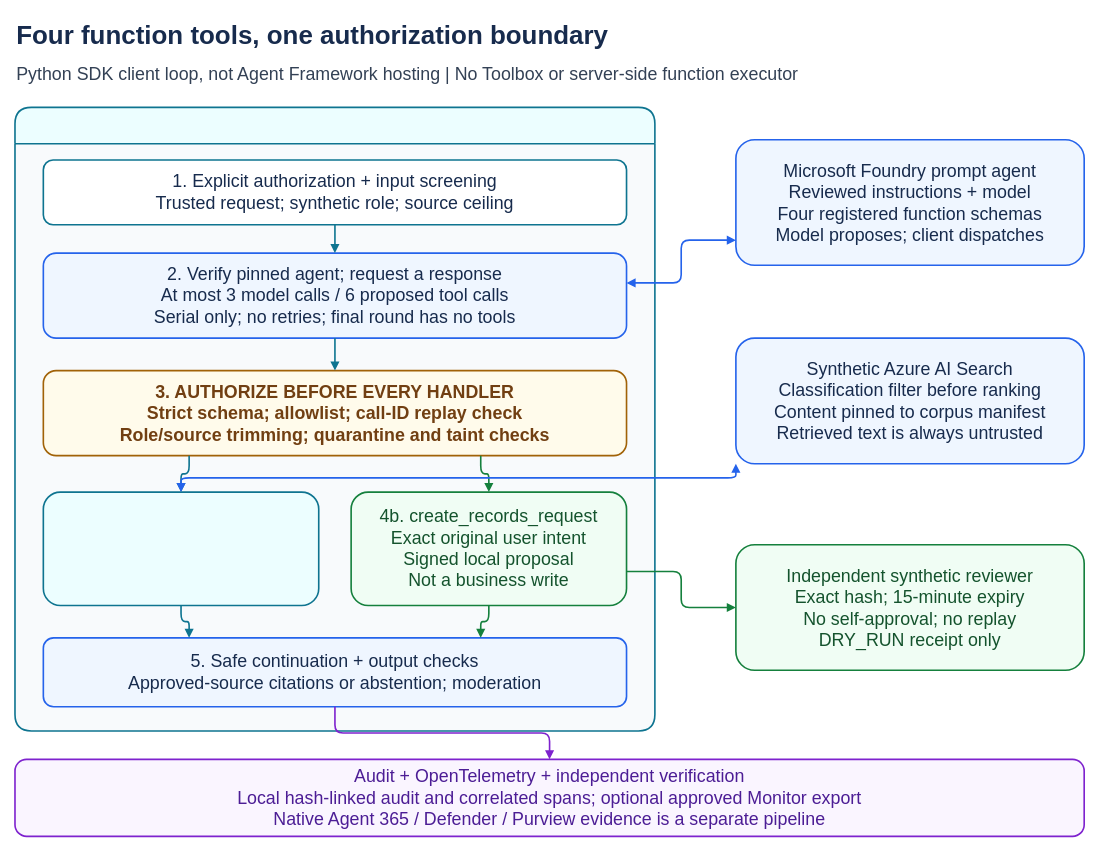
Some shapes in this 1098 by 851 pixel diagram are drawn without their labels. The box of each missing label's shape, as (x1, y1, x2, y2) in pixels:
4a. Read-only handlers search_policies get_policy_section get_ticket_status: (42, 491, 319, 606)
CALLER PROCESS: fsa CLI / NOTEBOOK: (14, 106, 655, 731)
